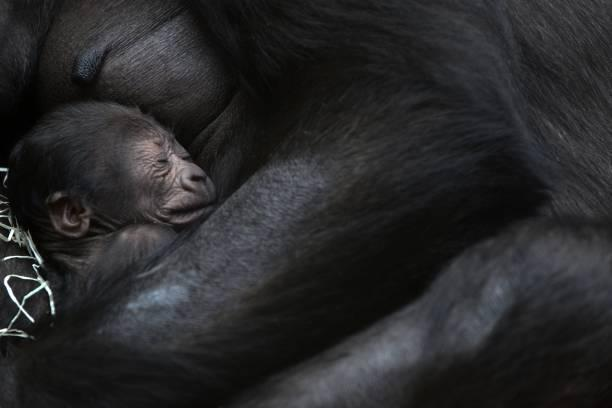gorille_Autres: (11, 0, 244, 341)
